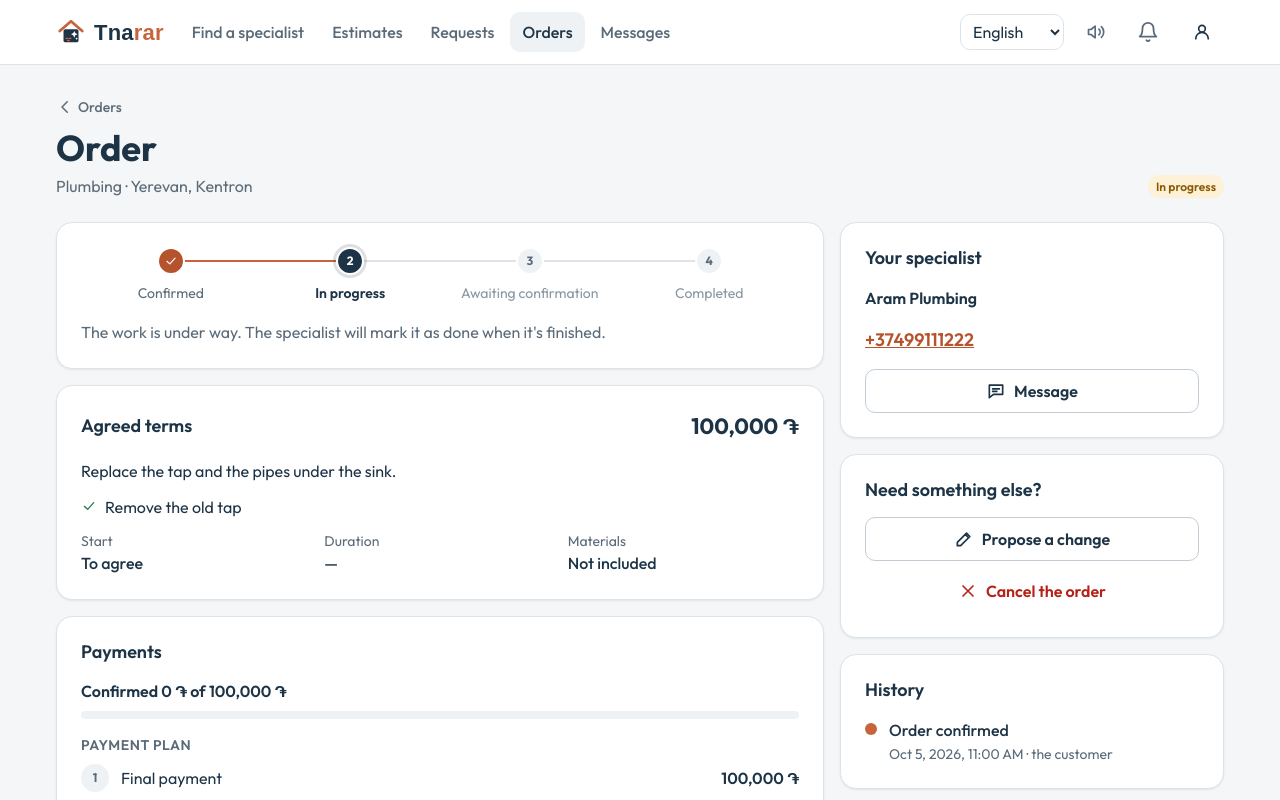
Test: Order steps › cancels with a reason and shows who cancelled
Click the button "Cancel the order" at [1032, 591], box [865,569,1199,613]
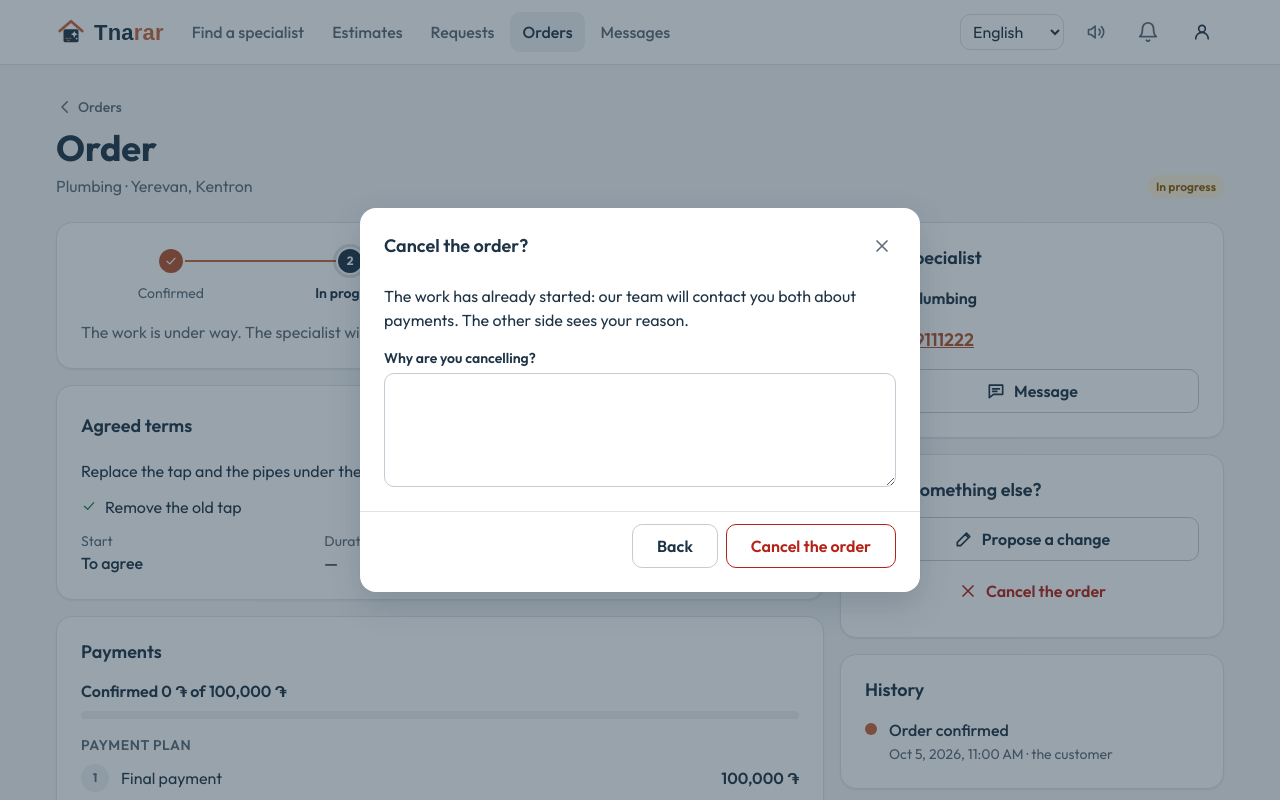
Expected: the text "The work has already started: our team will contact you both about payments. The other side sees your reason." is shown, [384,286,856,330]
Type "We are moving" into the text box labelled "Why are you cancelling?" at [640, 430], box [384,373,896,487]
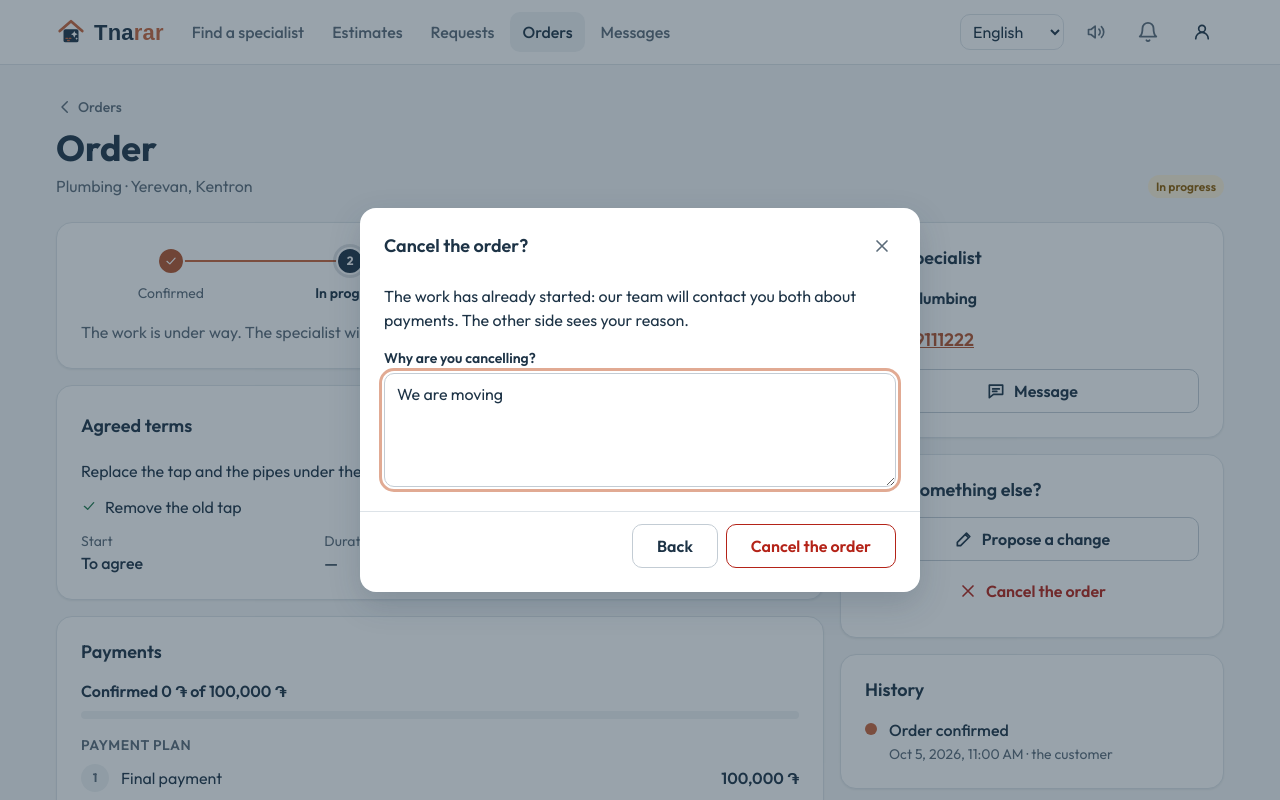
Click the button "Cancel the order" at [811, 546], box [726,524,896,568]
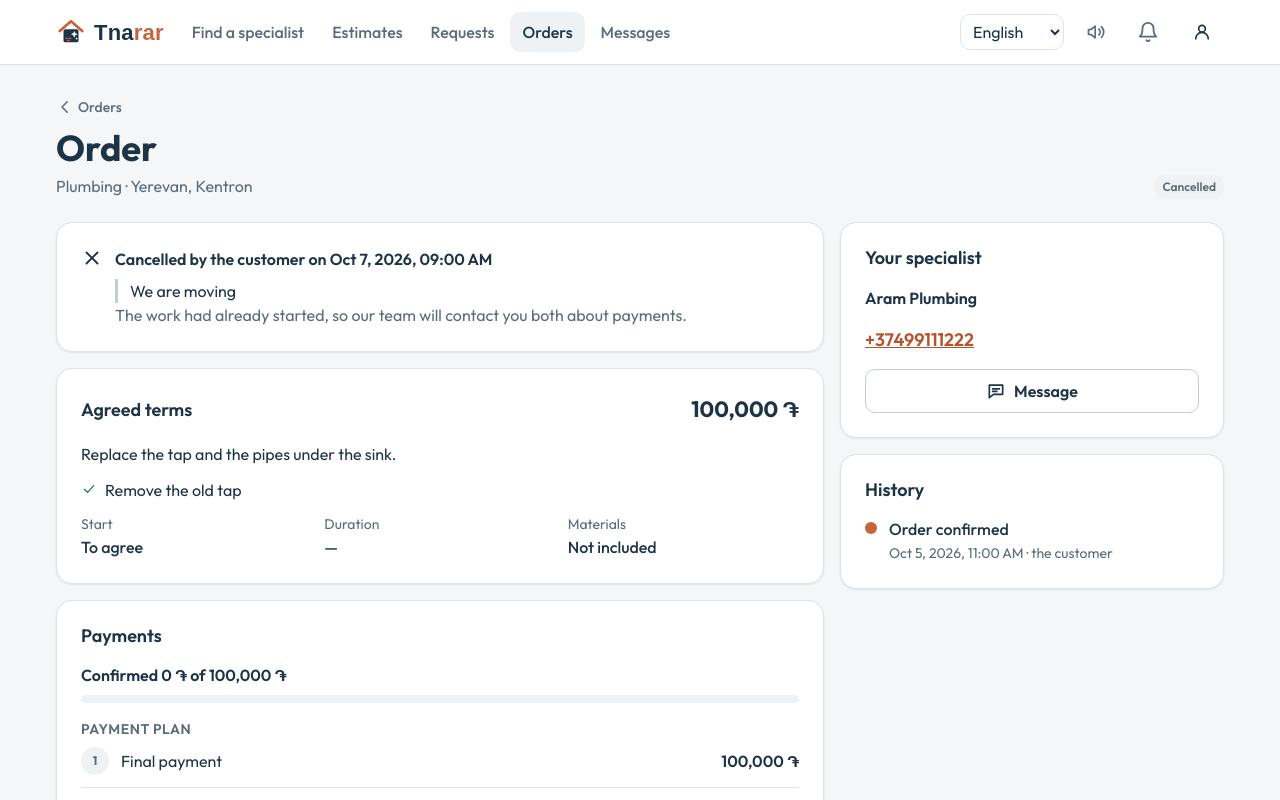
Expected: the text "Cancelled by the customer on Oct 7, 2026, 09:00 AM" is shown, [115,249,492,269]
Expected: the text "We are moving" is shown, [115,279,687,303]
Expected: the text "The work had already started, so our team will contact you both about payments." is shown, [115,303,687,327]
